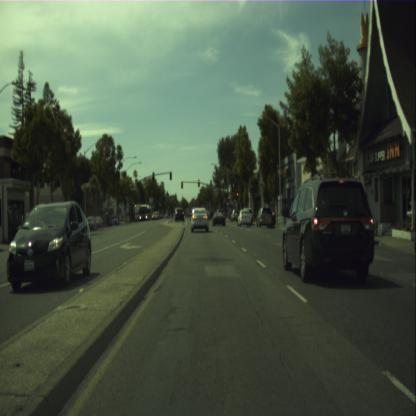Red: (228, 194, 230, 203), (236, 192, 238, 200), (180, 181, 182, 188), (198, 180, 200, 186)
